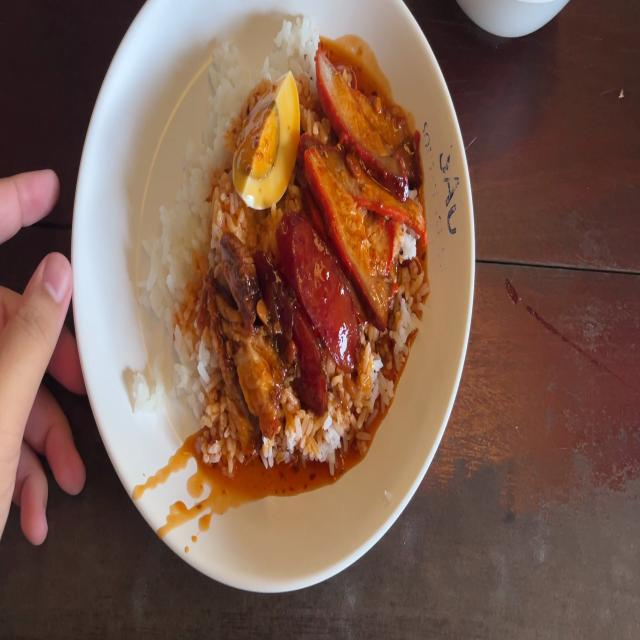01boiled_egg: (237, 77, 297, 192)
01chainese_sausage: (273, 219, 342, 394)
01crispy_pork: (226, 252, 273, 421)
01red_pork: (312, 55, 419, 286)
01red_pork_and_crispy_pork: (153, 53, 430, 467)
01rice: (160, 140, 226, 428), (205, 49, 240, 145), (274, 22, 316, 82)
